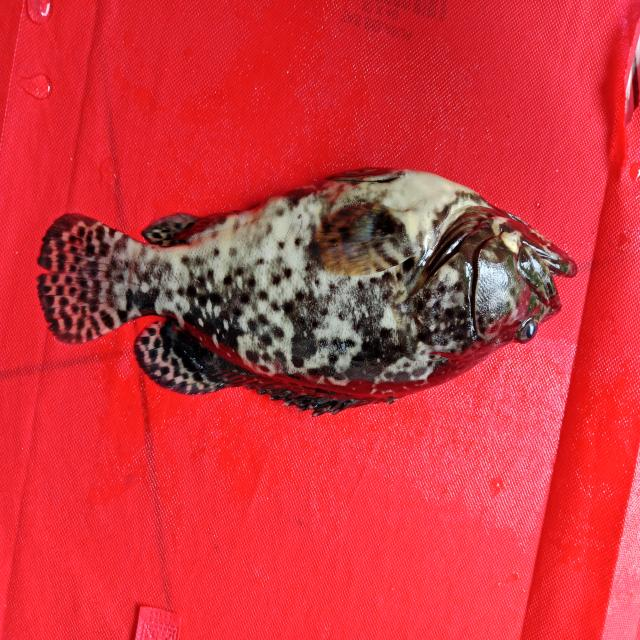ikan: (30, 146, 582, 431)
